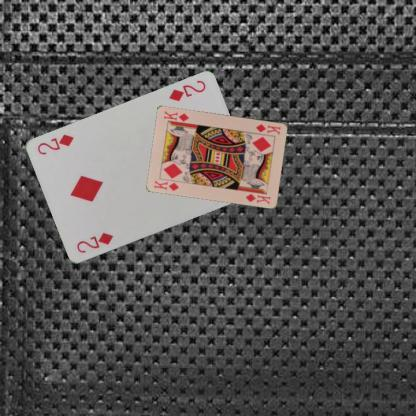2d: (166, 78, 207, 103), (74, 230, 114, 255)
Kd: (254, 121, 282, 136), (152, 177, 180, 192)
